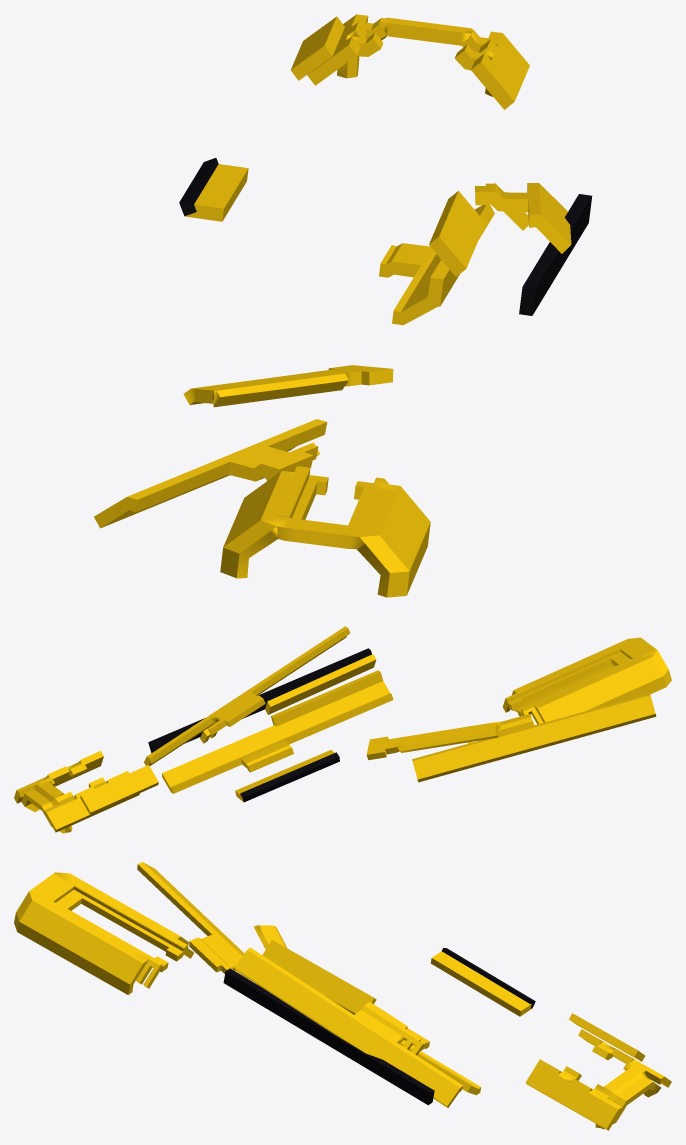
Rendered from Ship crash layer 3.FBX.
3 views of the same model, one above another, from view 1: azimuth 30°, elevation 25°; view 2: azimuth 150°, elevation 25°; view 3: azimuth 270°, elevation 25° (orthographic). The views are drawn at different scales.
Visible parts, largest first — view 1: Object040; view 2: Object040; view 3: Object040.
Boxes of the visible parts, x1=… form: Object040: x1=94, y1=14, x2=592, y2=597; Object040: x1=14, y1=626, x2=671, y2=833; Object040: x1=14, y1=862, x2=671, y2=1130.
Bounding box in the file's own units: 731 × 183 × 908.
